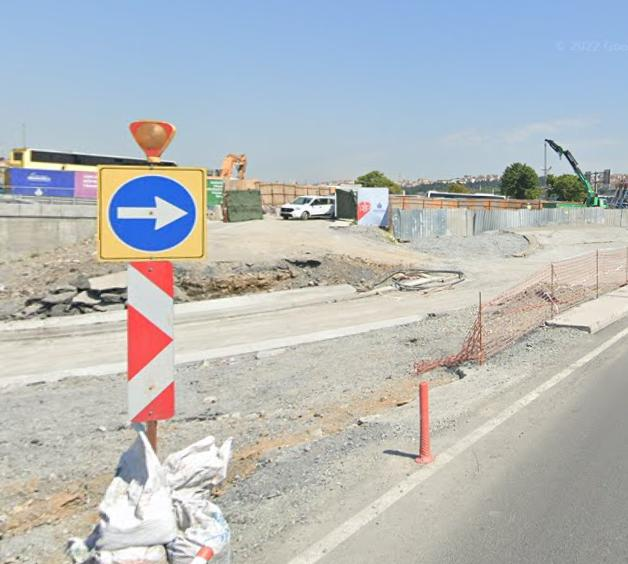turnright: (98, 164, 202, 261)
